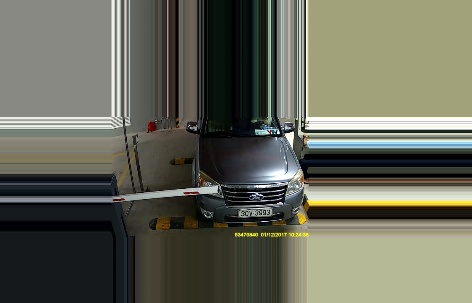plate: (236, 206, 273, 218)
